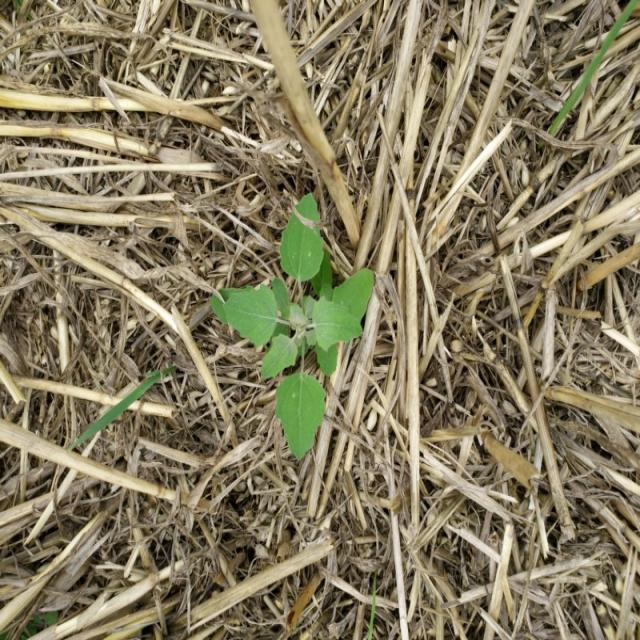ca: (228, 214, 372, 458)
